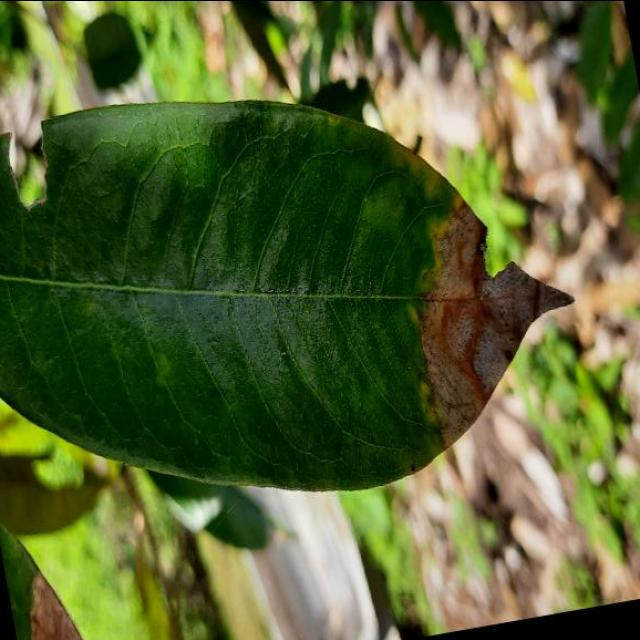Leaf Blight: (0, 18, 611, 560)
